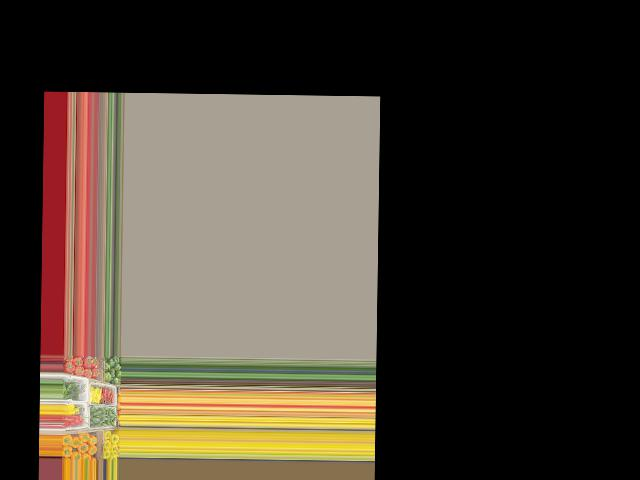bell_pepper: (102, 361, 113, 371)
